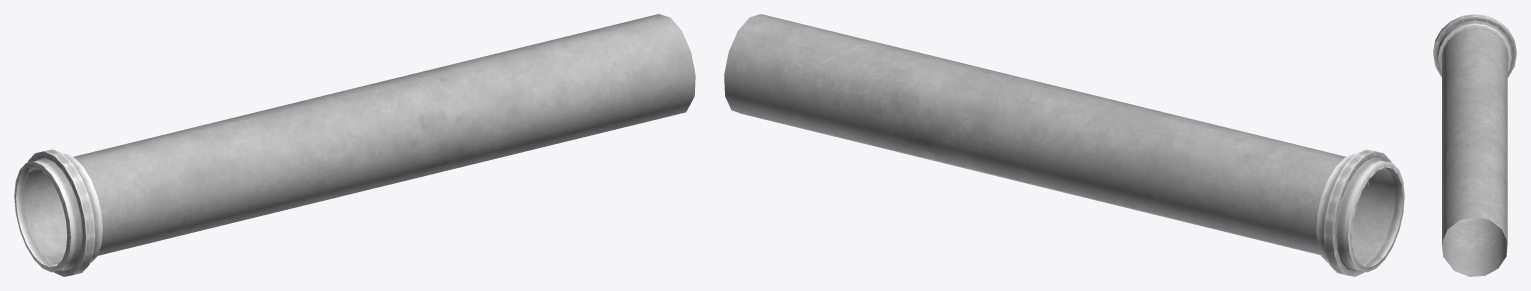
Rendered from SM_Pipes_03h.glb.
3 views of the same model, side by side, from view 1: azimuth 30°, elevation 25°; view 2: azimuth 150°, elevation 25°; view 3: azimuth 270°, elevation 25° (orthographic). The views are drawn at different scales.
Visible parts, largest first — view 1: SM_Pipes_03h; view 2: SM_Pipes_03h; view 3: SM_Pipes_03h.
Boxes of the visible parts, x1=… form: SM_Pipes_03h: x1=14, y1=14, x2=695, y2=276; SM_Pipes_03h: x1=724, y1=14, x2=1404, y2=276; SM_Pipes_03h: x1=1433, y1=14, x2=1516, y2=276.
Size of the model in its own units: 1 by 0.1773 by 0.1773.
1 material, 1 textured.
